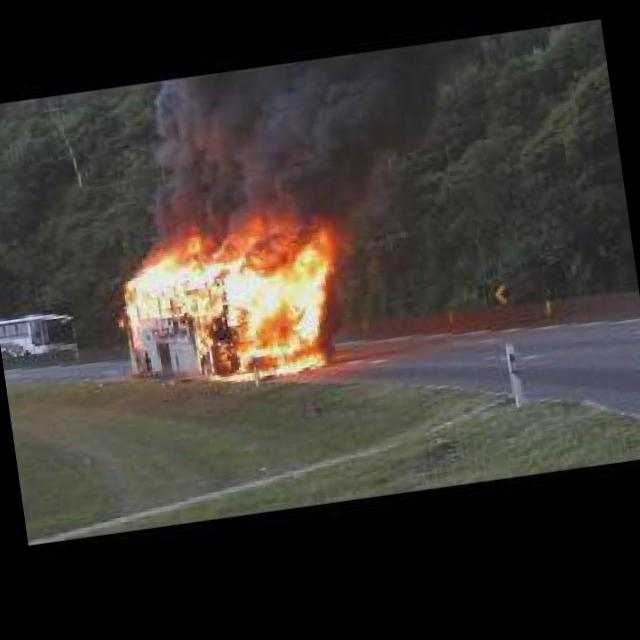fire: (105, 210, 361, 406)
smoke: (135, 48, 464, 264)
